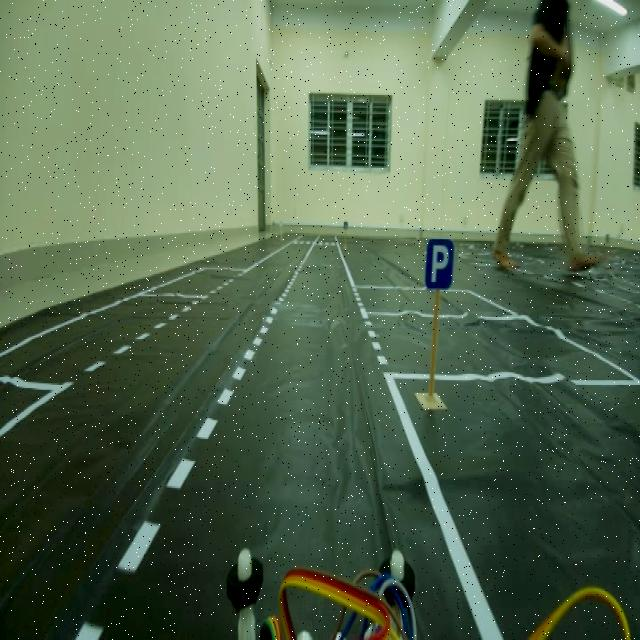parking: (420, 227, 457, 294)
